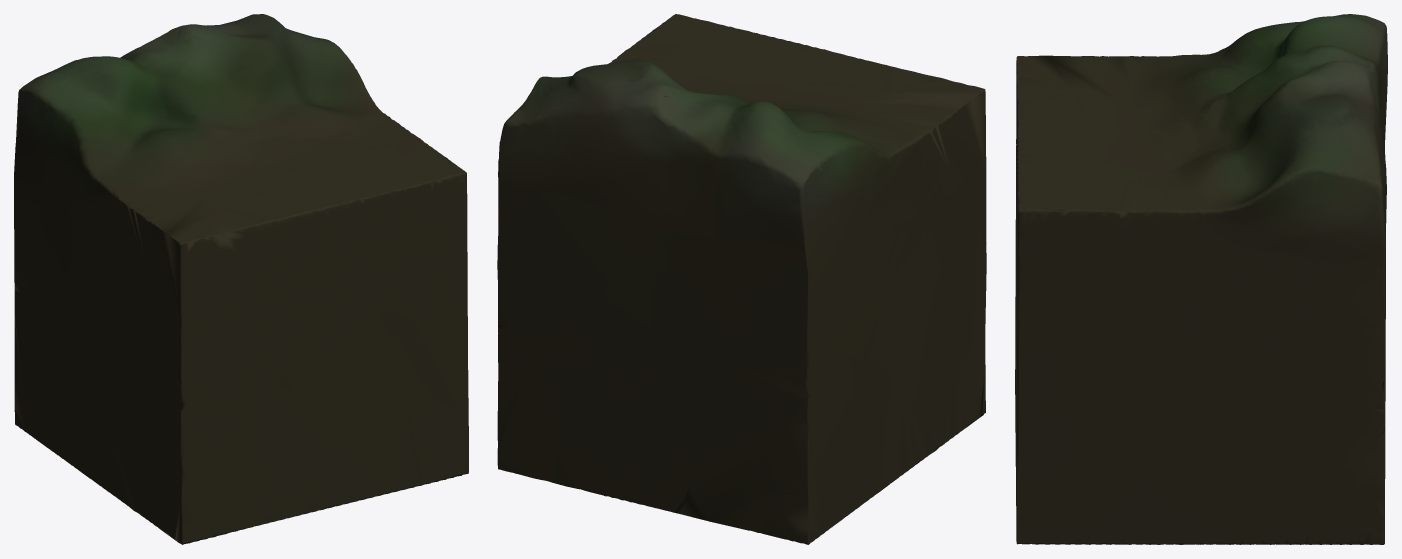
File: f_stage.gltf
3 renders of one model, left to right at view 1: azimuth 30°, elevation 25°; view 2: azimuth 150°, elevation 25°; view 3: azimuth 270°, elevation 25°, orthographic. The views are drawn at different scales.
Visible parts, largest first — view 1: Layer_1; view 2: Layer_1; view 3: Layer_1.
Boxes of the visible parts, <box> form: Layer_1: <box>14,14,468,544</box>; Layer_1: <box>497,14,986,544</box>; Layer_1: <box>1015,14,1387,544</box>.
Size of the model in its own units: 129 by 157 by 128.
